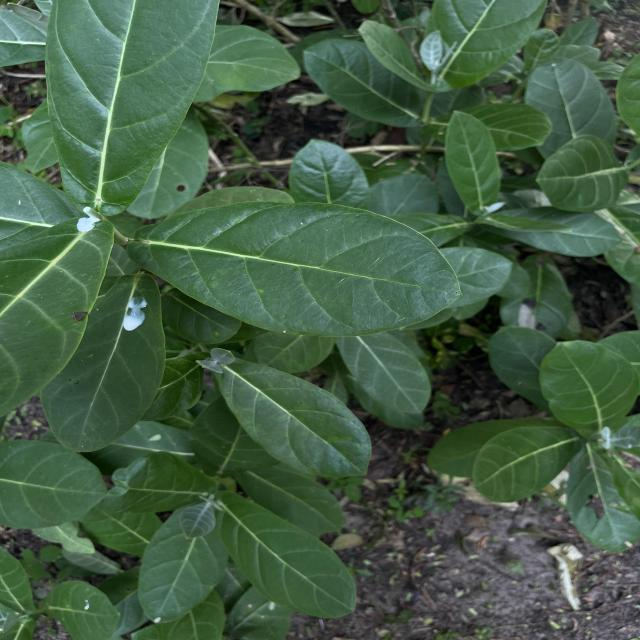Calotropis gigantea: (124, 198, 465, 339), (41, 0, 225, 210), (37, 270, 170, 454), (213, 354, 373, 481), (210, 489, 358, 620), (134, 503, 230, 625), (301, 38, 420, 130), (538, 339, 639, 442), (470, 423, 580, 504), (536, 134, 630, 214), (337, 336, 432, 415), (442, 108, 502, 215)
